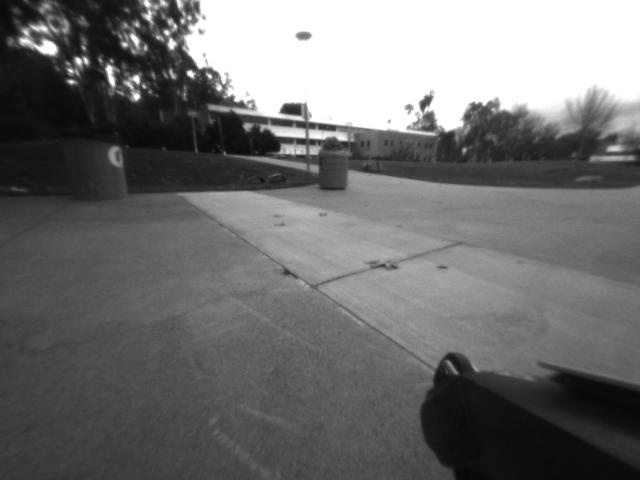trashcan: (61, 134, 130, 204), (316, 148, 347, 192)
